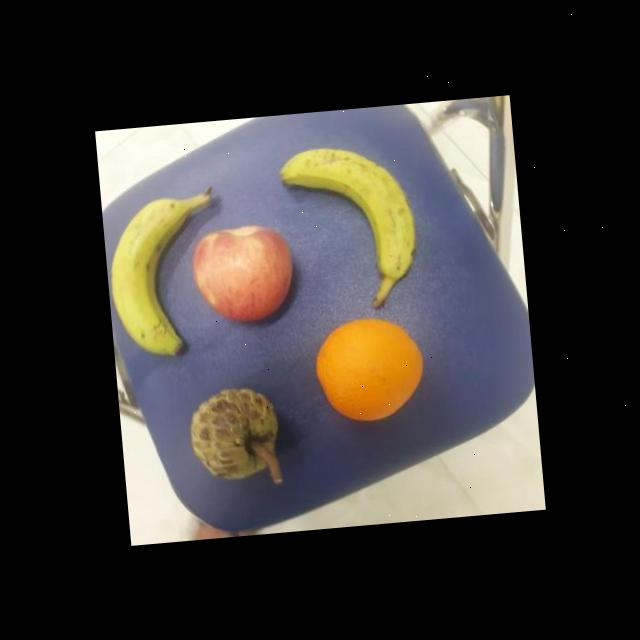Sakya fruit: (182, 384, 288, 484)
apple: (188, 221, 301, 328)
banana: (273, 138, 422, 285), (100, 182, 208, 362)
orange: (306, 312, 430, 428)
